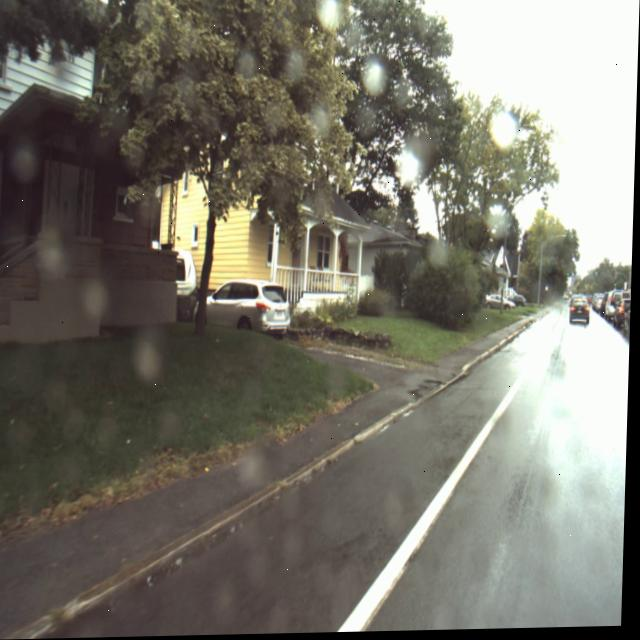car: (194, 279, 293, 339), (606, 292, 632, 325), (570, 298, 593, 329), (616, 300, 633, 336), (487, 297, 517, 314), (626, 302, 633, 349), (517, 298, 529, 311)
